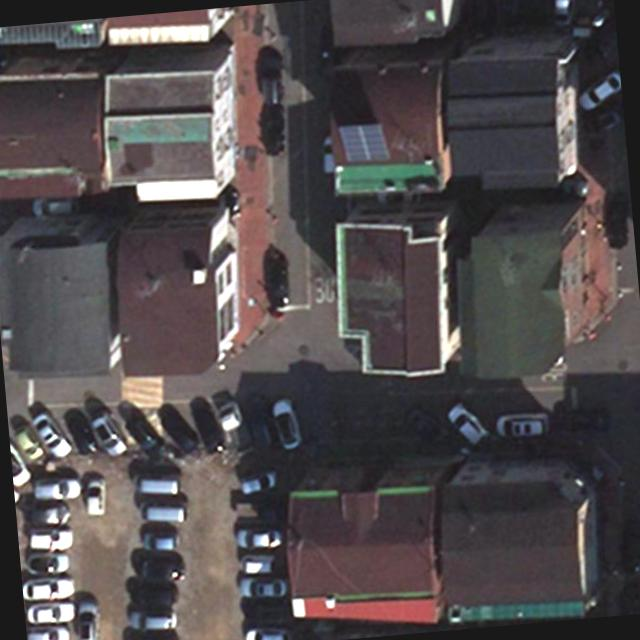solar: (336, 118, 392, 166)
